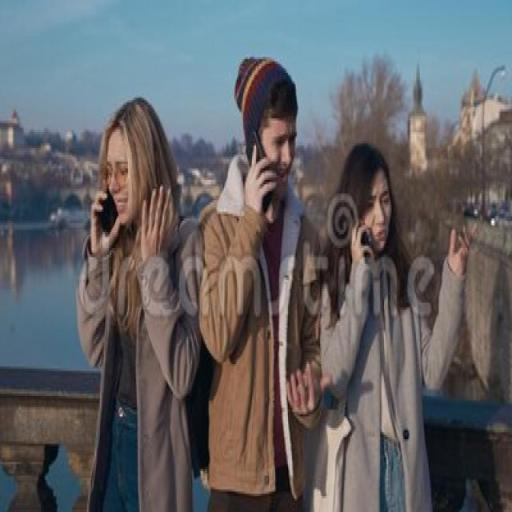person: (323, 137, 482, 512), (204, 46, 325, 512), (75, 94, 202, 512)
